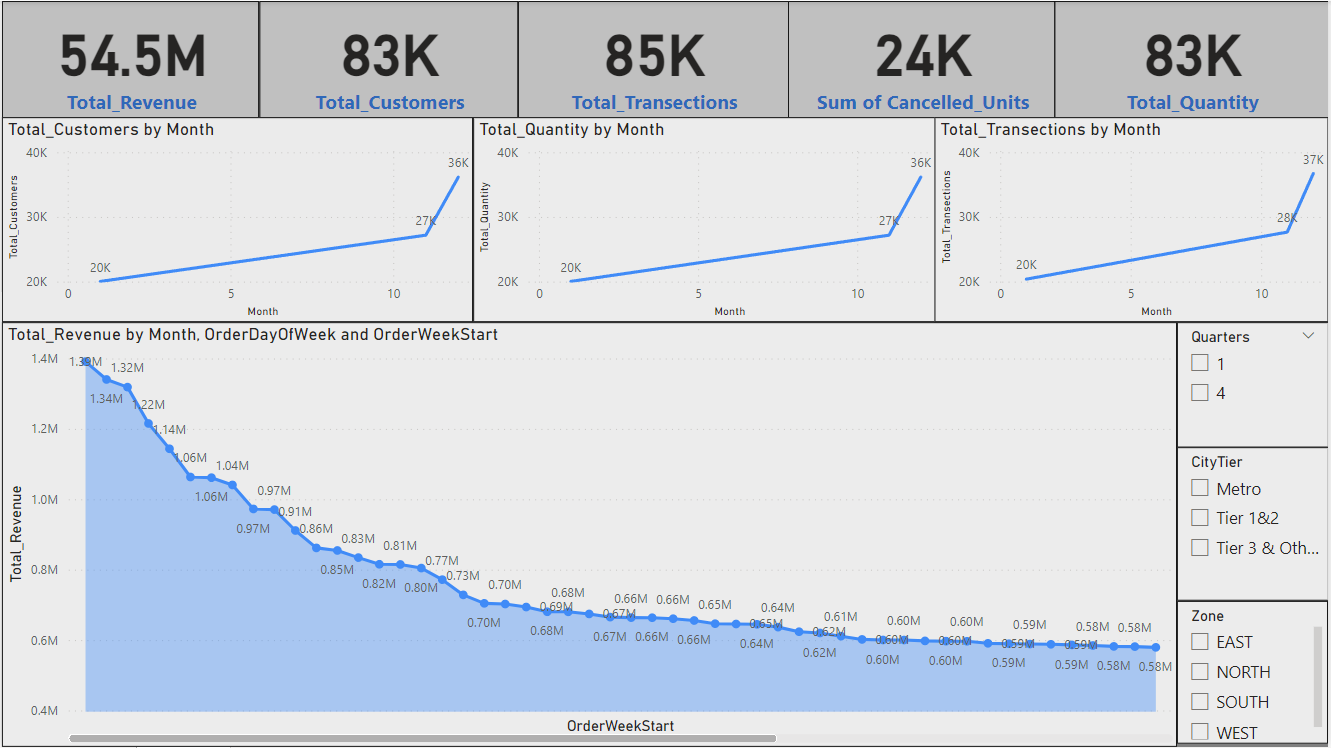

The page's visual inventory and layout, read from the dashboard file:
{"tool":"powerbi","page":{"name":"Page 1","canvas":[1280,720],"ordinal":0},"visuals":[{"type":"card","fields":{"Values":["Sales Raw.Total_Customers"]},"box":[248.2,0,249.5,112.4],"z":0},{"type":"card","fields":{"Values":["Sales Raw.Total_Revenue"]},"box":[0,0,248.2,112.4],"z":1000},{"type":"card","fields":{"Values":["Sum(Sales Raw.Cancelled_Units)"]},"box":[758.2,0,257.8,112.4],"z":2000},{"type":"card","fields":{"Values":["Sales Raw.Total_Transections"]},"box":[497.7,0,260.5,112.4],"z":3000},{"type":"card","fields":{"Values":["Sales Raw.Total_Quantity"]},"box":[1015.9,0,264.6,112.4],"z":4000},{"type":"lineChart","fields":{"Y":["Sales Raw.Total_Customers"],"Category":["Sales Raw.Month"]},"box":[0,112.2,454.7,197.8],"z":5001},{"type":"lineChart","fields":{"Y":["Sales Raw.Total_Quantity"],"Category":["Sales Raw.Month"]},"box":[454.7,112.2,446.2,197.8],"z":5002},{"type":"lineChart","fields":{"Y":["Sales Raw.Total_Transections"],"Category":["Sales Raw.Month"]},"box":[899.7,112.2,379.9,197.8],"z":5003},{"type":"areaChart","fields":{"Category":["Sales Raw.Month","Sales Raw.OrderDayOfWeek","Sales Raw.OrderWeekStart"],"Y":["Sales Raw.Total_Revenue"]},"box":[0,309.9,1133.9,409.9],"z":5004},{"type":"slicer","fields":{"Values":["Sales Raw.Quarters"]},"box":[1133.9,309.9,146.7,120.7],"z":5005},{"type":"slicer","fields":{"Values":["Mod3_Raw_CityTier_v0 1.CityTier"]},"box":[1133.9,430.5,146.7,148.1],"z":5006},{"type":"slicer","fields":{"Values":["PinCode-Geo.Zone"]},"box":[1133.7,578.9,145.9,137.5],"z":5007}]}

Visuals, with their boxes in screenshot pixels (x1, y1, x2, y2), scaled from the page's 1280x720 canvas onto the 1331x748 screenshot:
card - Sales Raw.Total_Customers: 258/0/518/117
card - Sales Raw.Total_Revenue: 0/0/258/117
card - Sum(Sales Raw.Cancelled_Units): 788/0/1056/117
card - Sales Raw.Total_Transections: 518/0/788/117
card - Sales Raw.Total_Quantity: 1056/0/1330/117
lineChart - Sales Raw.Total_Customers x Sales Raw.Month: 0/117/473/322
lineChart - Sales Raw.Total_Quantity x Sales Raw.Month: 473/117/937/322
lineChart - Sales Raw.Total_Transections x Sales Raw.Month: 936/117/1330/322
areaChart - Sales Raw.Month x Sales Raw.OrderDayOfWeek: 0/322/1179/747
slicer - Sales Raw.Quarters: 1179/322/1330/447
slicer - Mod3_Raw_CityTier_v0 1.CityTier: 1179/447/1330/601
slicer - PinCode-Geo.Zone: 1179/601/1330/744
